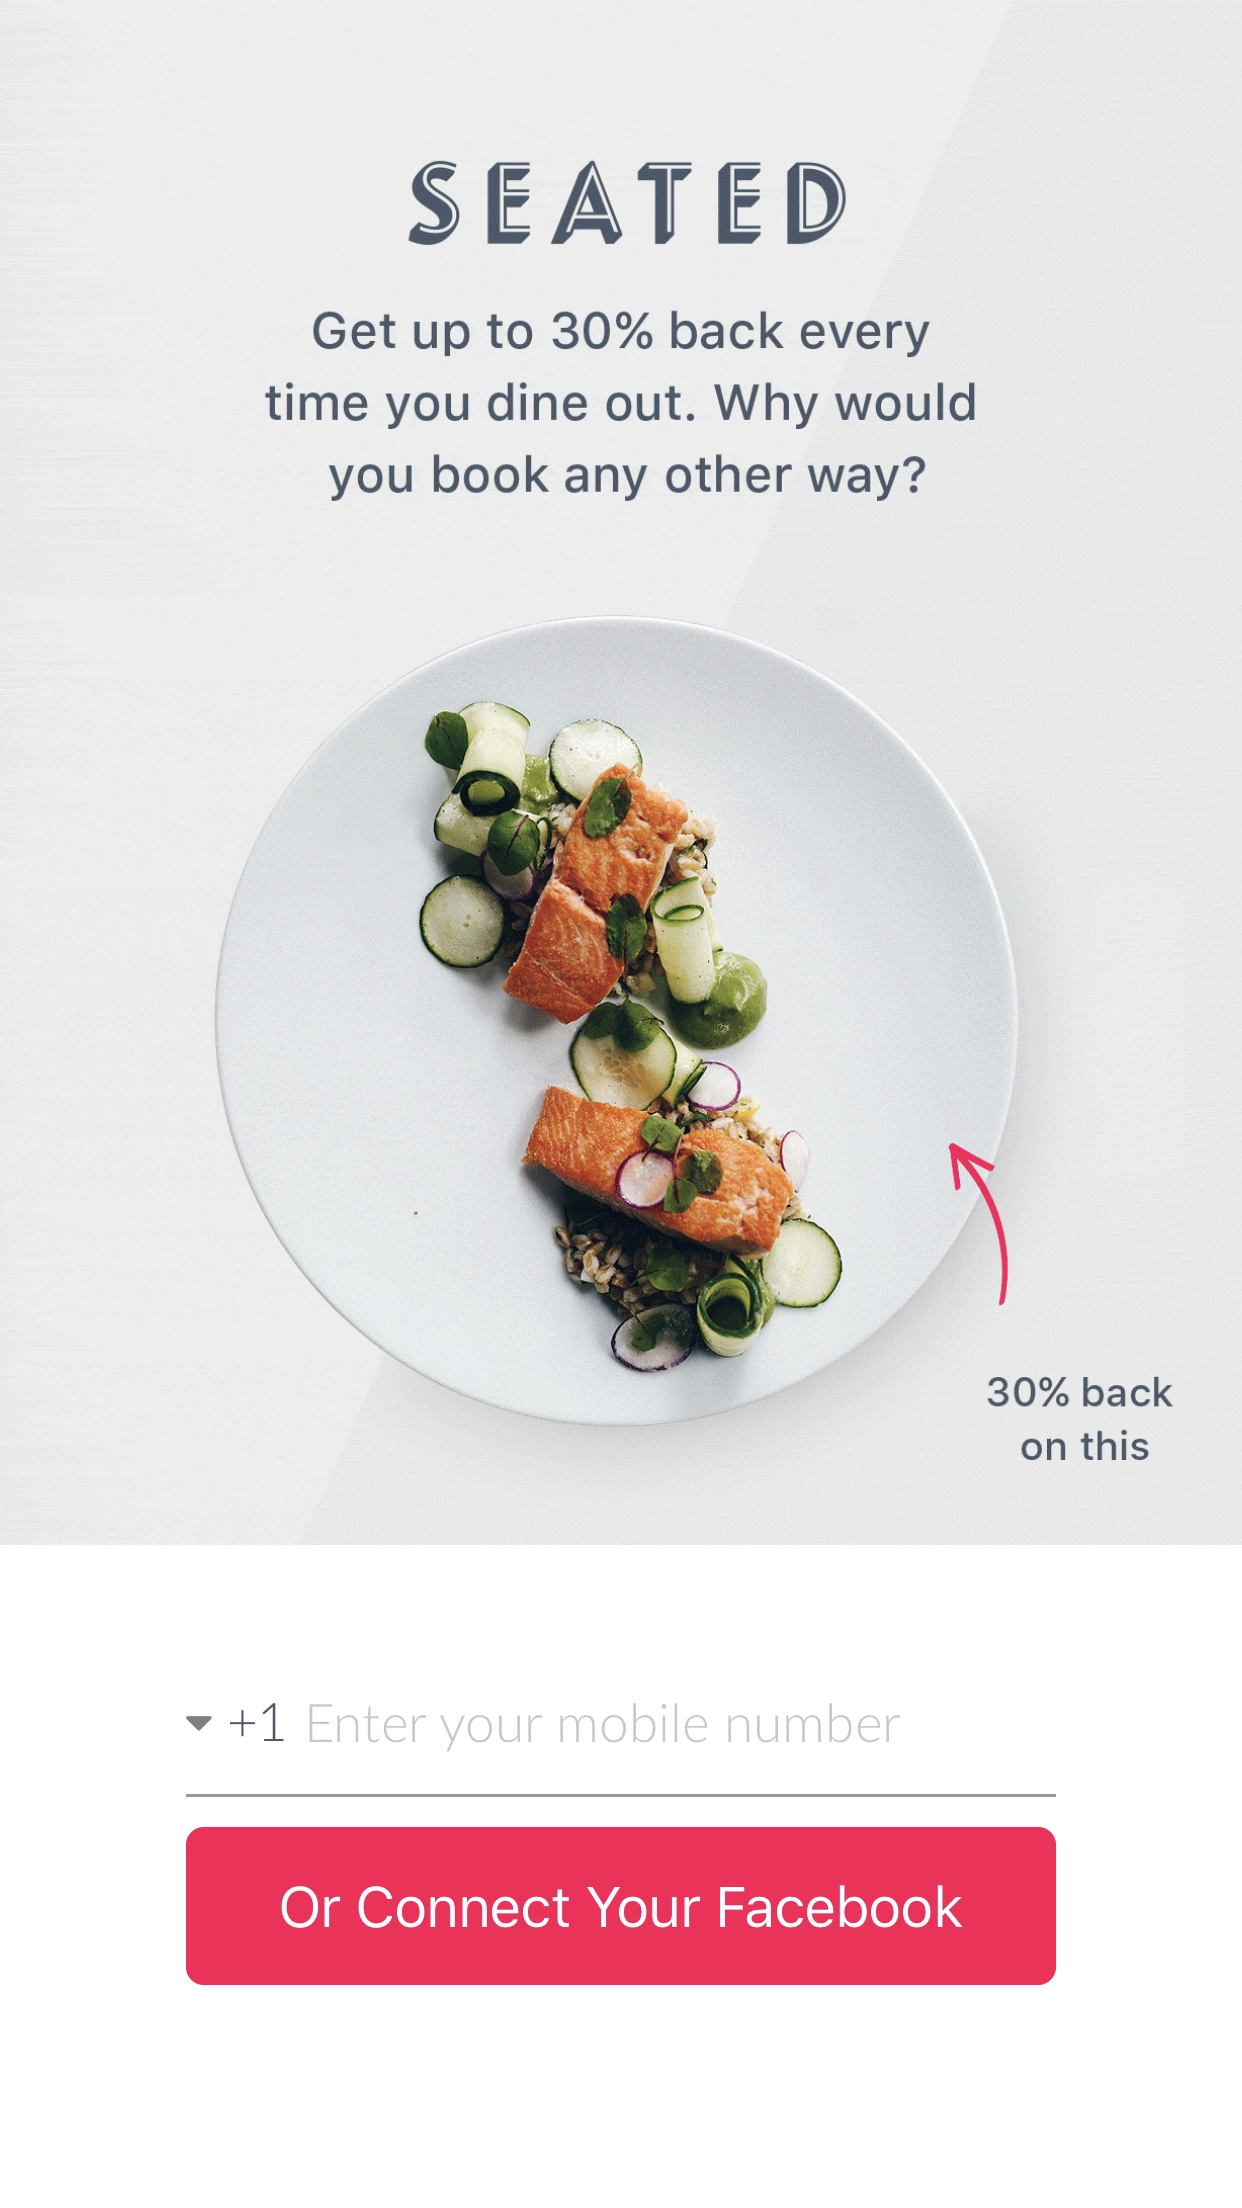EditText: (187, 1701, 1057, 1799)
Icon: (187, 1715, 212, 1733)
Image: (212, 616, 1019, 1429)
Text: (265, 311, 977, 503), (409, 161, 848, 247), (309, 1703, 902, 1752), (986, 1375, 1174, 1462), (231, 1705, 285, 1742)
TextButton: (187, 1827, 1057, 1987)
